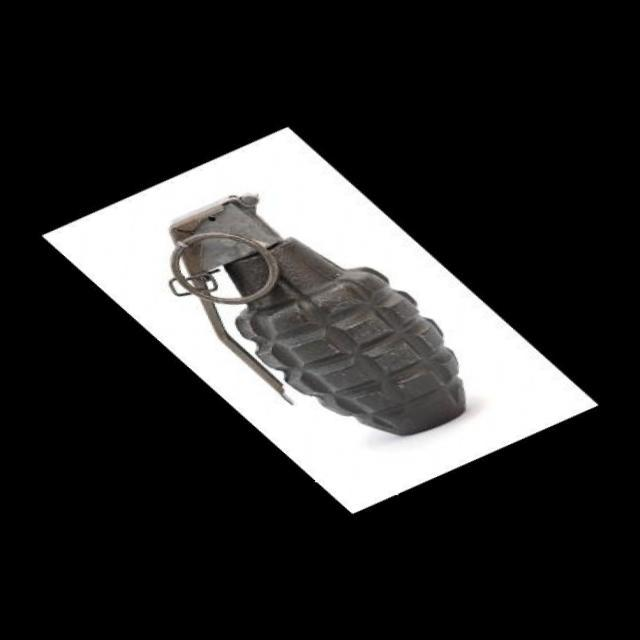grenade: (128, 178, 516, 449)
